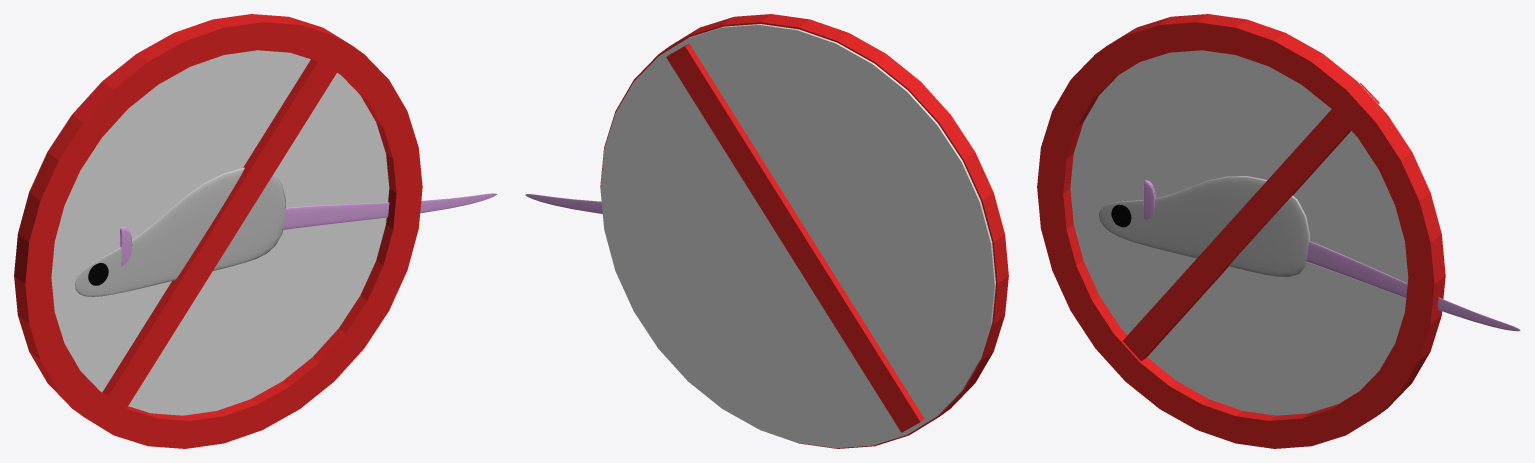
The model's file is RatSymbol.fbx.
3 views of the same model, side by side, from view 1: azimuth 30°, elevation 25°; view 2: azimuth 150°, elevation 25°; view 3: azimuth 330°, elevation 25° (orthographic).
Parts seen in each view (by area): view 1: Cylinder.002, Cylinder.004, Rat.001, Rat Tail.001; view 2: Cylinder.002, Cylinder.004, Rat Tail.001; view 3: Cylinder.002, Cylinder.004, Rat.001, Rat Tail.001.
Part boxes in pixels (x1,y1,x2,y2): Cylinder.002: (18,33,389,415); Cylinder.004: (14,14,422,448); Rat.001: (75,167,285,296); Rat Tail.001: (283,193,496,229); Cylinder.002: (600,24,995,448); Cylinder.004: (600,14,1008,448); Rat Tail.001: (525,194,602,213); Cylinder.002: (1070,34,1441,415); Cylinder.004: (1037,14,1445,448); Rat.001: (1099,176,1309,277); Rat Tail.001: (1306,241,1520,331).
Bounding box in the file's own units: 1645 × 101 × 1368.
